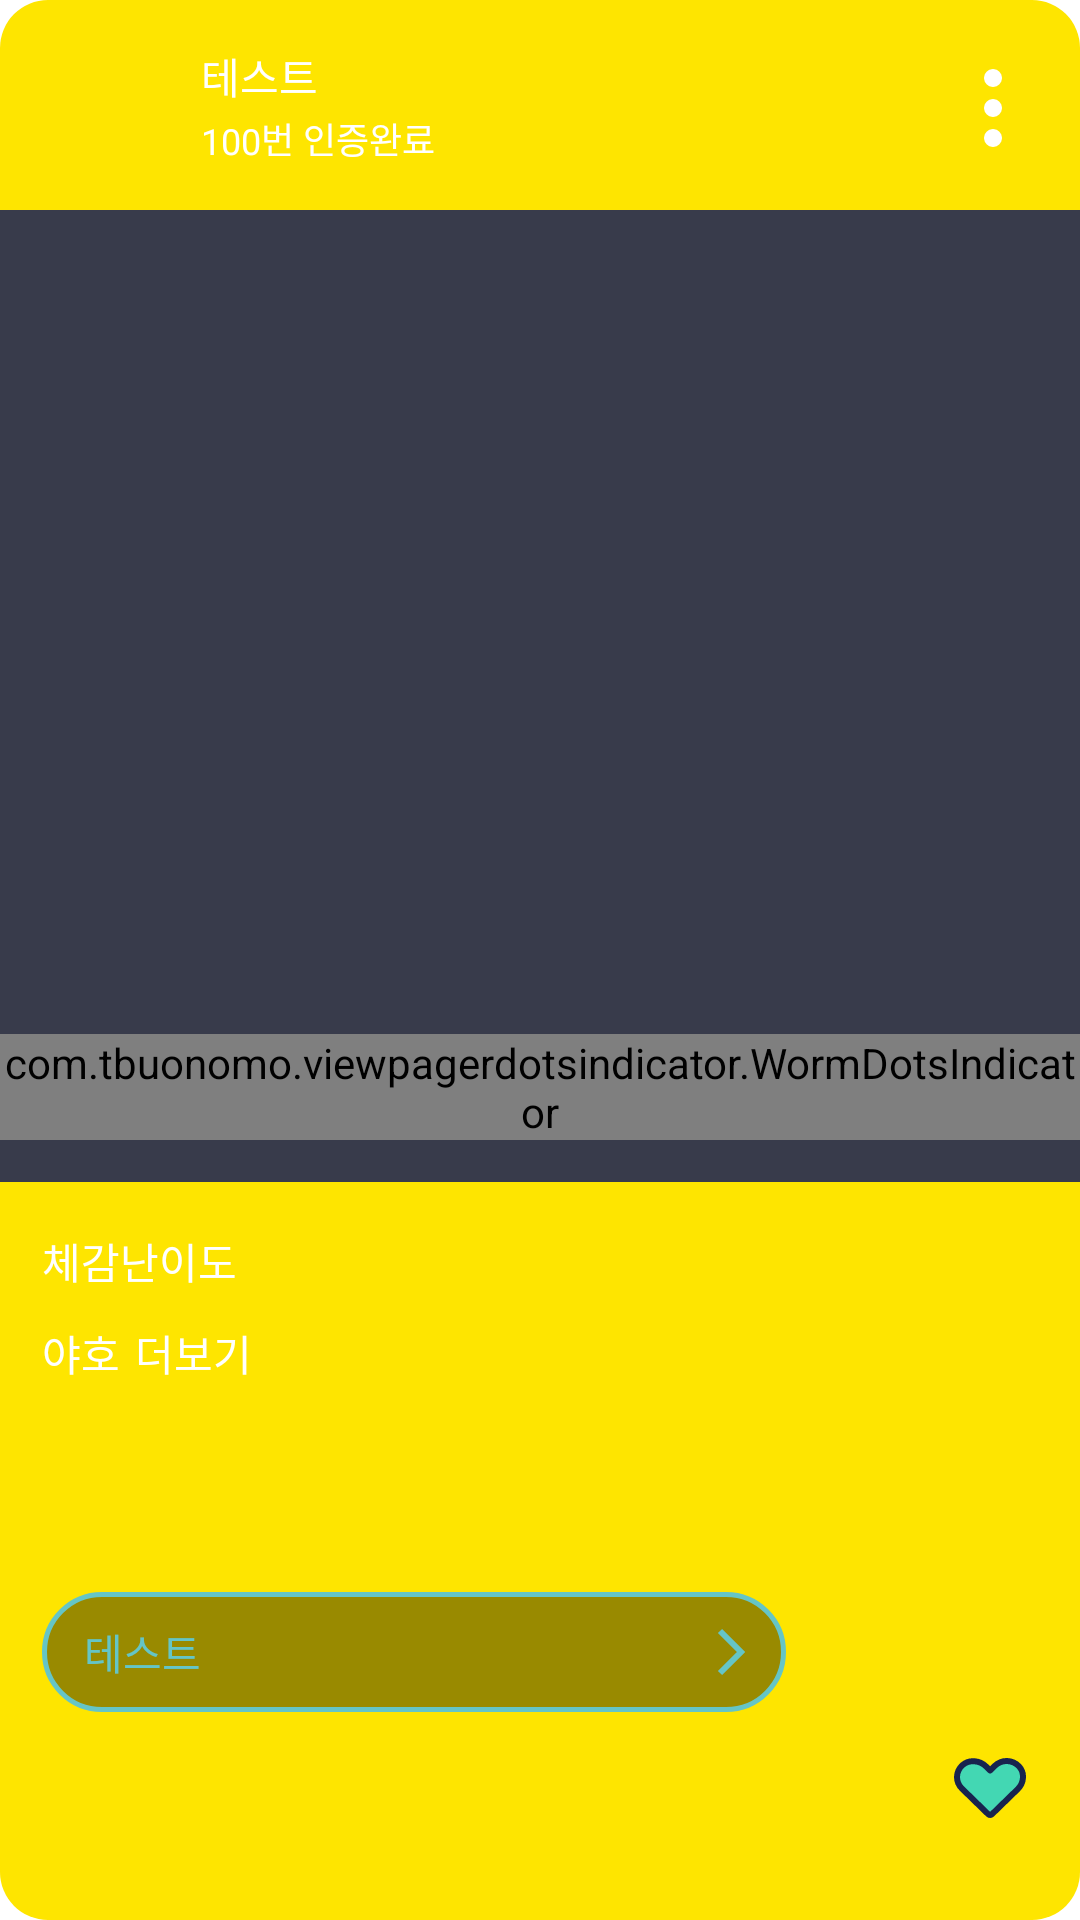

Screen size 1080*1920. Icon name, then its box in pixels as (x1, y1, x2, y2):
heart on: (954, 1758, 1026, 1818)
more: (984, 69, 1002, 147)
right arrow: (718, 1629, 745, 1675)
